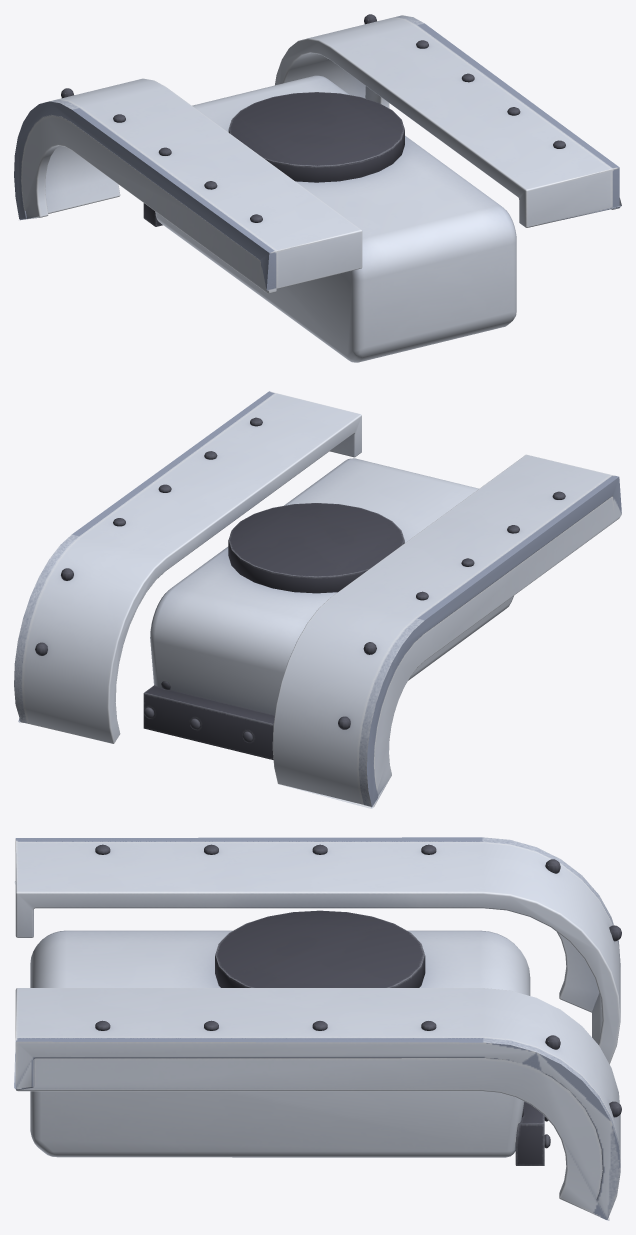
File: hull.glb
The picture shows the model from 3 angles, top to bottom: view 1: azimuth 30°, elevation 25°; view 2: azimuth 150°, elevation 25°; view 3: azimuth 270°, elevation 25°; orthographic projection. The views are drawn at different scales.
Parts seen in each view (by area): view 1: hull; view 2: hull; view 3: hull.
Boxes of the visible parts, x1,y1,x2,y2 form: hull: (14, 14, 621, 362); hull: (14, 391, 621, 808); hull: (14, 837, 621, 1220).
Bounding box in the file's own units: 2.7 × 1.14 × 3.36.
2 materials, 2 textured.
